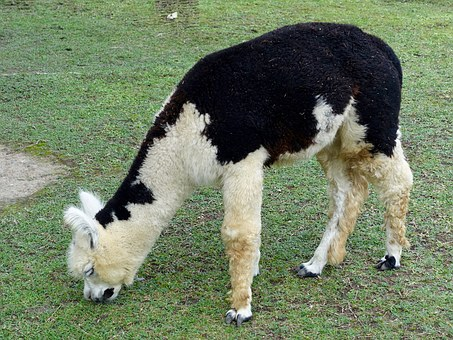alpaca: (61, 21, 415, 327)
